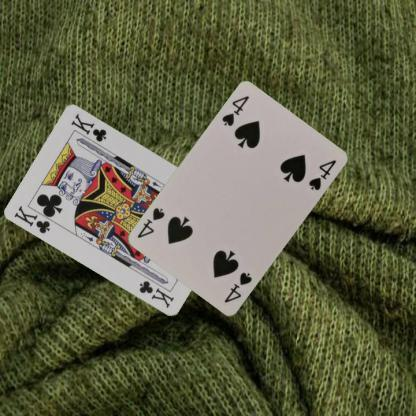4s: (221, 270, 254, 304), (219, 93, 251, 128)
Kc: (12, 202, 52, 236)
